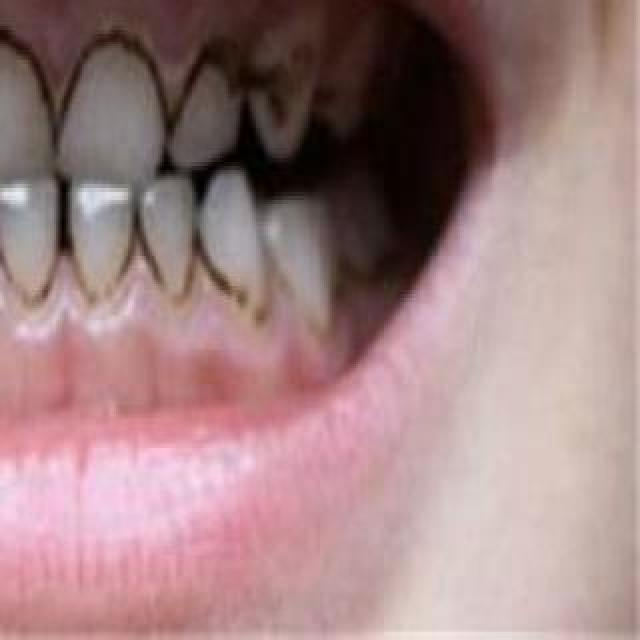cavities: (332, 175, 416, 305), (248, 17, 312, 163), (317, 25, 371, 141)
maligned: (129, 142, 211, 342), (162, 9, 252, 175)
stains: (53, 21, 169, 183), (266, 224, 346, 376), (195, 162, 269, 320), (167, 47, 241, 167), (64, 179, 136, 299), (0, 26, 54, 184), (133, 175, 193, 299), (0, 170, 56, 302)
